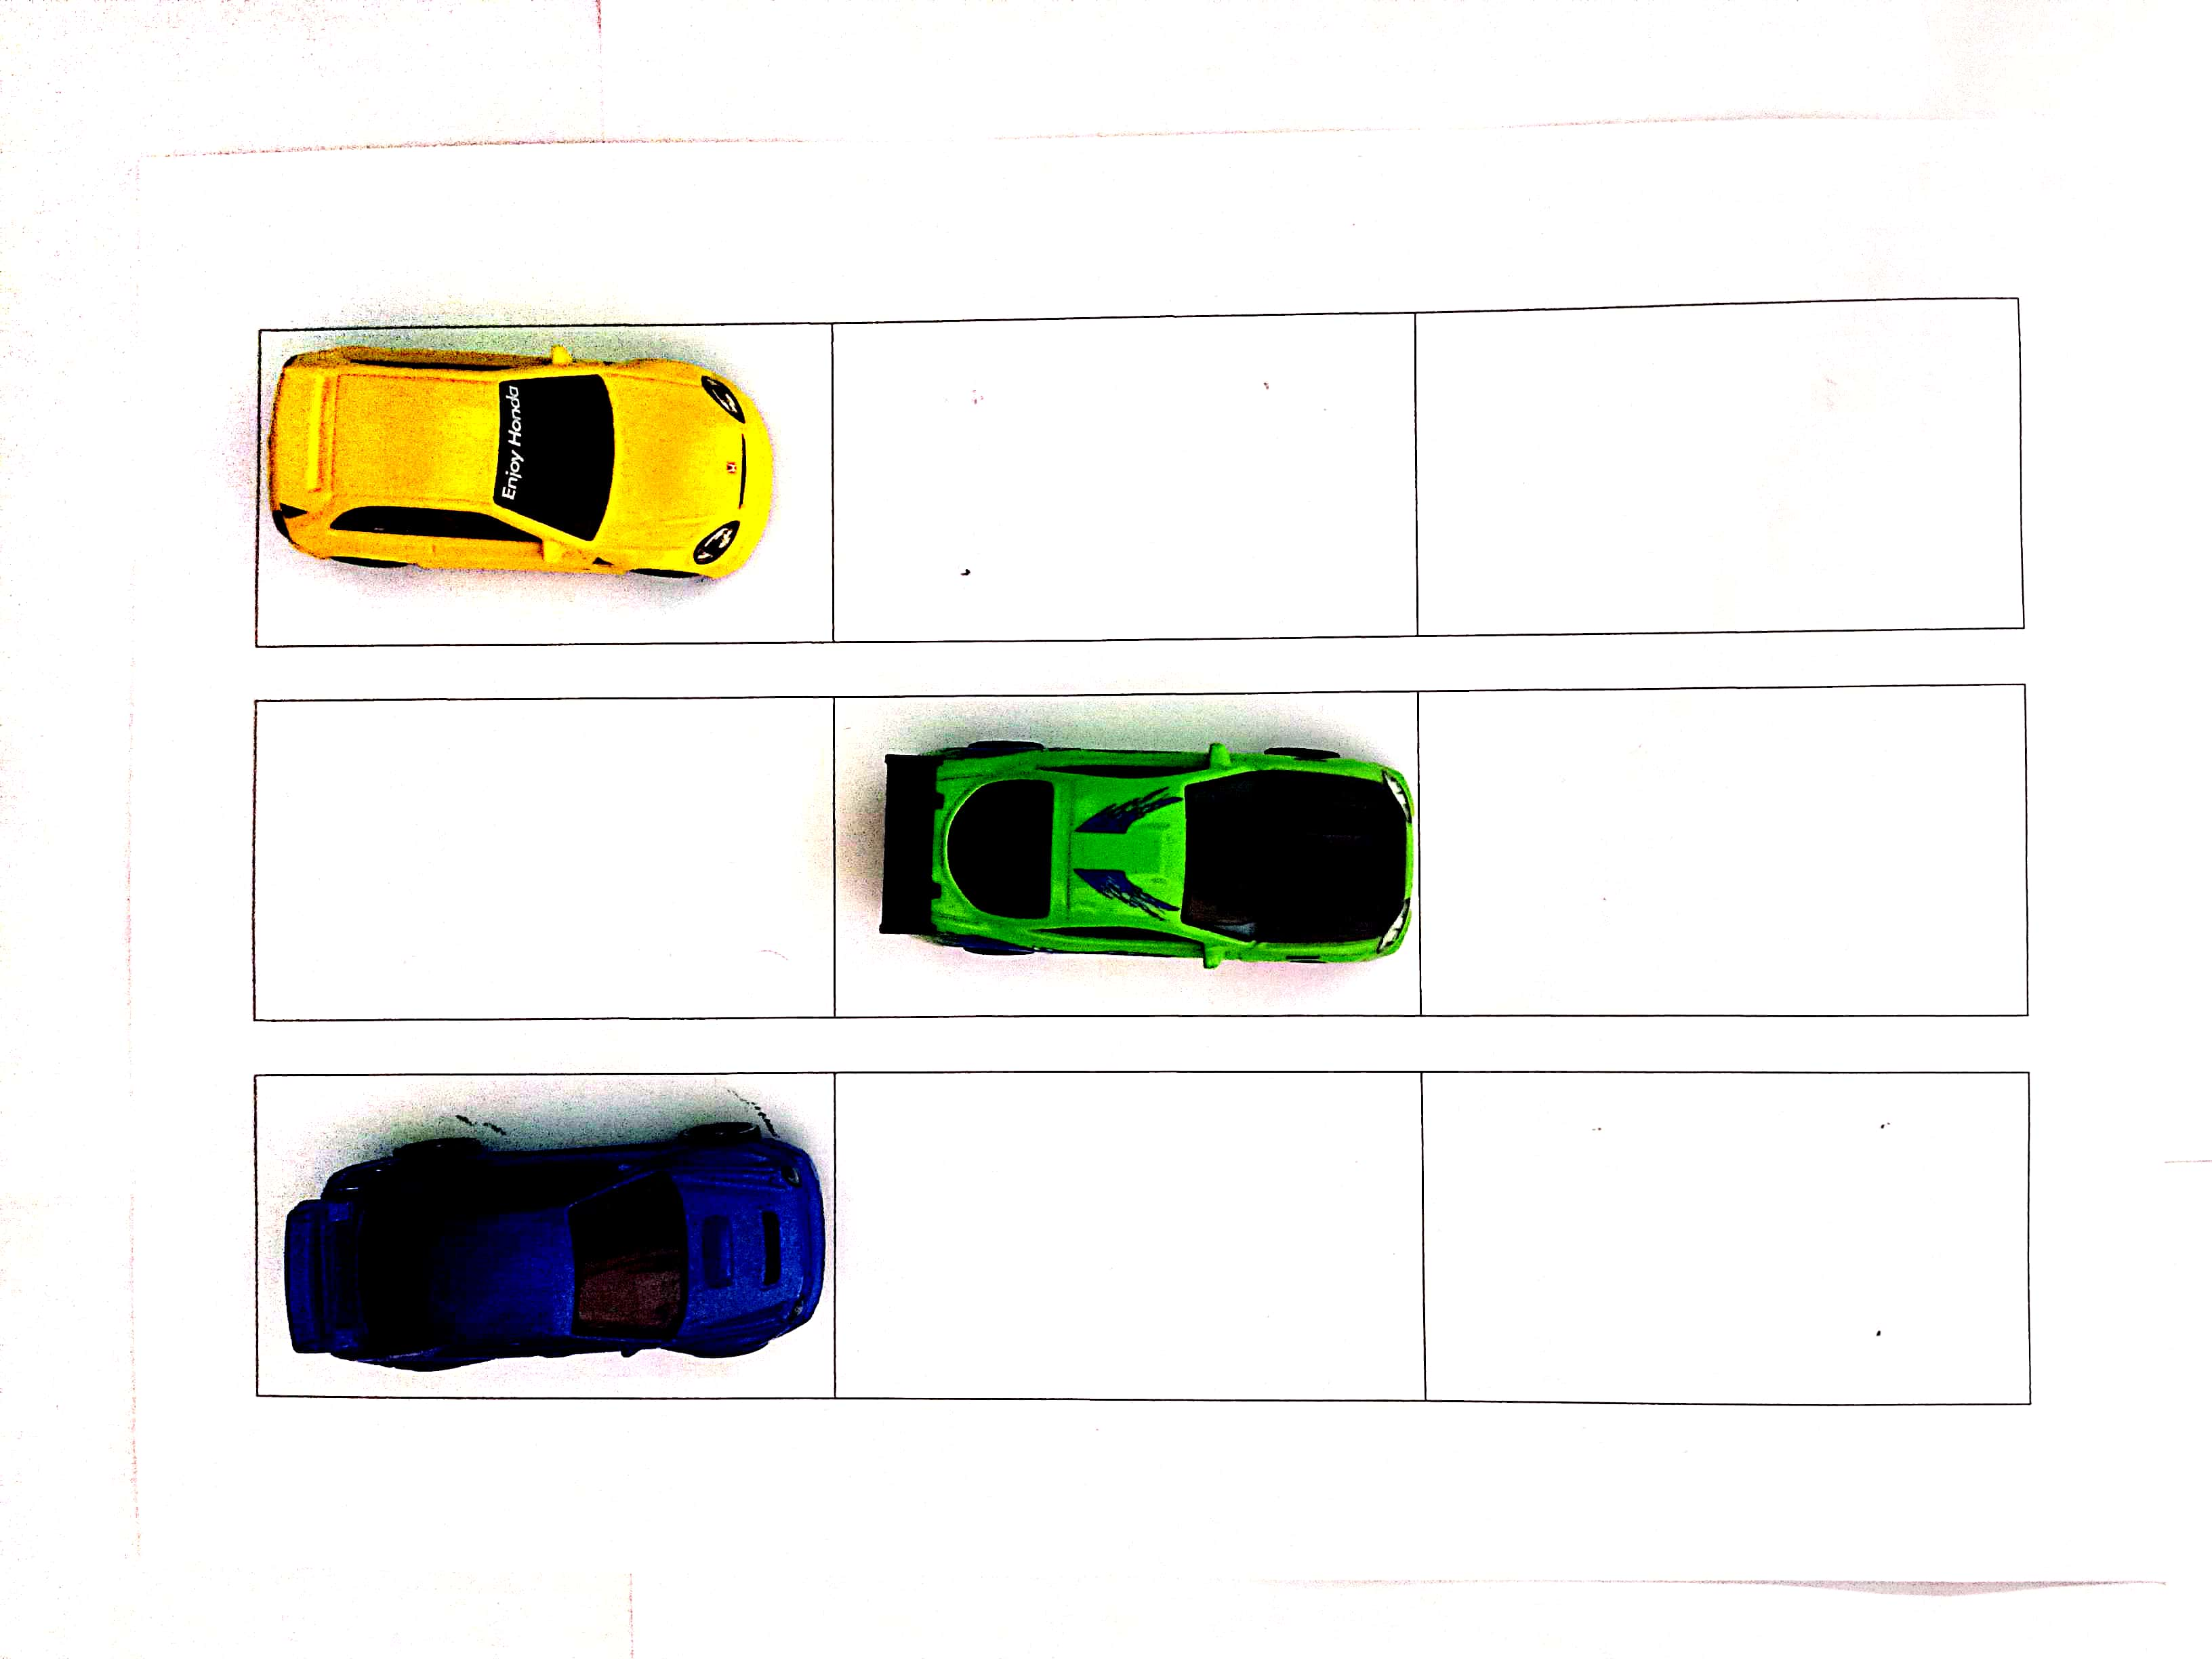Busy: (833, 688, 1418, 1009), (253, 1079, 834, 1399), (258, 328, 838, 643)
Free: (1421, 678, 2027, 1014), (1421, 301, 2026, 634), (1423, 1077, 2026, 1396), (838, 314, 1421, 640), (833, 1077, 1423, 1394), (254, 697, 829, 1016)
